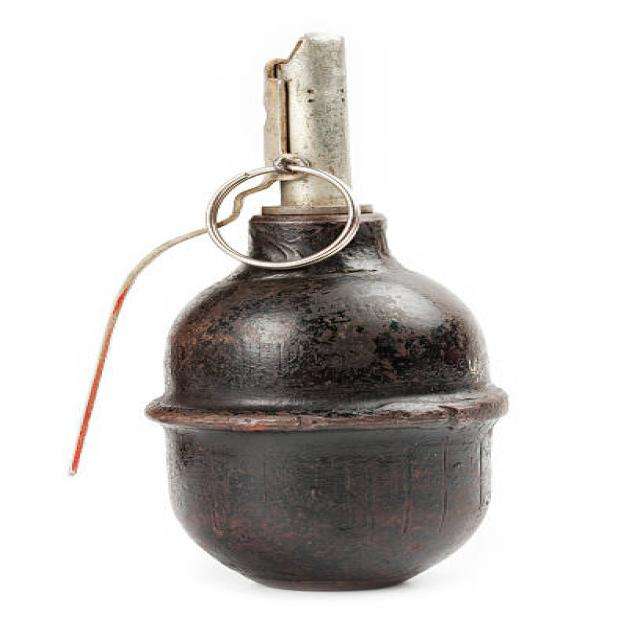grenade: (51, 26, 523, 606)
